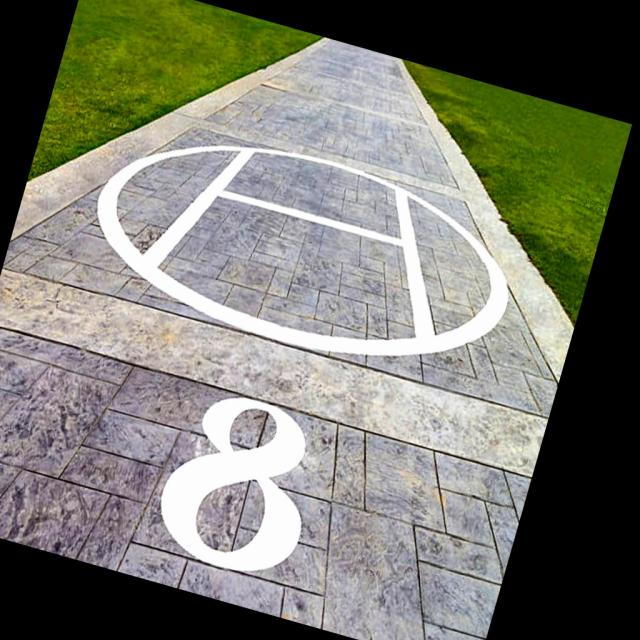helipad: (94, 144, 513, 362)
